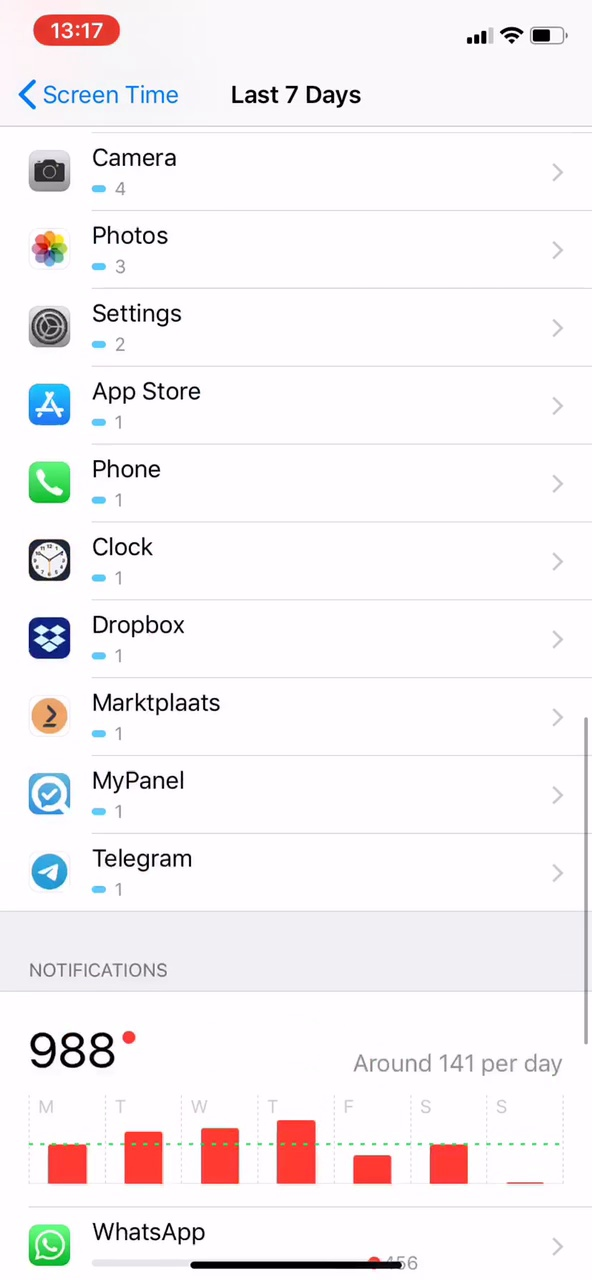not_over: (12, 944, 220, 1086)
pick_app: (26, 744, 264, 832), (23, 602, 264, 678), (20, 133, 245, 214), (20, 372, 265, 446), (18, 289, 257, 364), (22, 447, 250, 524), (17, 216, 250, 288), (28, 835, 265, 905), (22, 532, 248, 599), (28, 683, 257, 741)
week: (215, 81, 382, 116)
